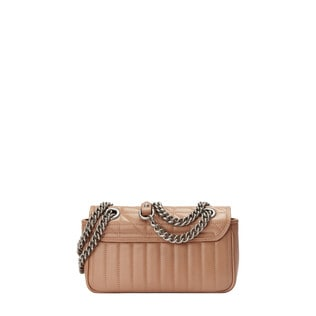Gucci: (72, 193, 252, 299)
